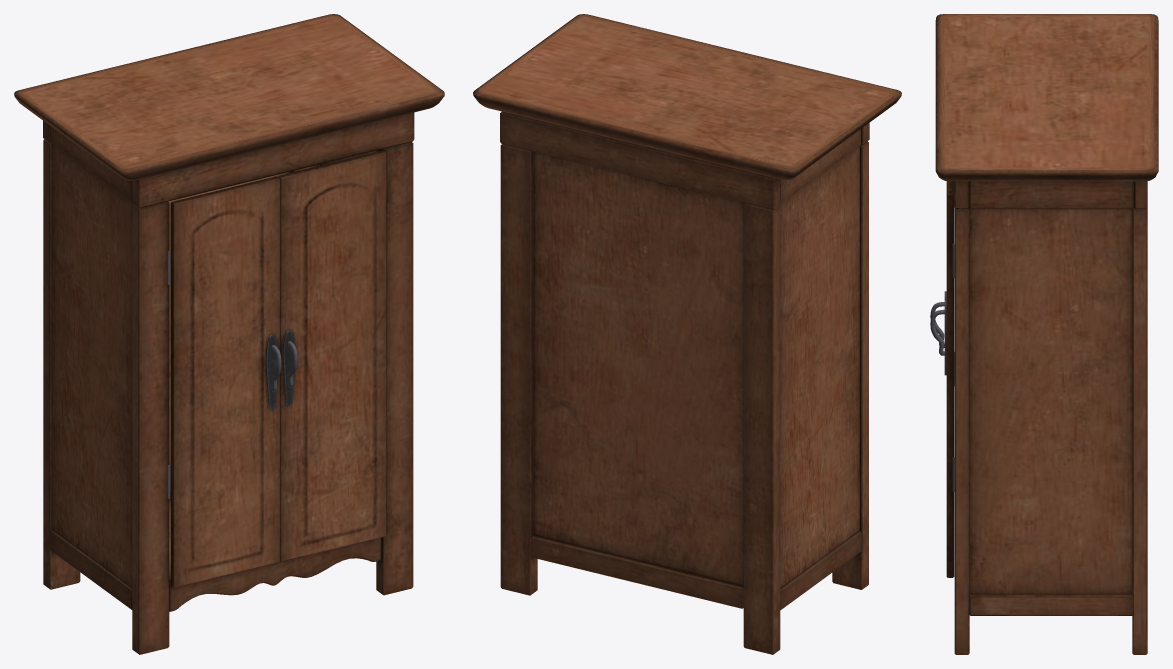
File: antique_wooden_wardrobe.gltf
The picture shows the model from 3 angles, left to right: view 1: azimuth 30°, elevation 25°; view 2: azimuth 150°, elevation 25°; view 3: azimuth 270°, elevation 25°; orthographic projection.
Parts seen in each view (by area): view 1: Cube.018, Cube.019, Cube.017, Cube.013, Cube, Cube.001, Cube.004, Cube.002, Cube.008, Cube.010, Cube.006, Cube.014 (+2 smaller); view 2: Cube.014, Cube.017, Cube.013, Cube.002, Cube.003, Cube.005, Cube.009, Cube, Cube.010, Cube.006; view 3: Cube.012, Cube.017, Cube.001, Cube.003, Cube.007, Cube.011, Cube.019, Cube.004, Cube.005.
Part boxes in pixels (left/top/right/bottom): Cube.018: left=170, top=176, right=279, bottom=587; Cube.019: left=278, top=150, right=386, bottom=561; Cube.017: left=14, top=14, right=444, bottom=180; Cube.013: left=51, top=143, right=132, bottom=587; Cube: left=132, top=201, right=169, bottom=654; Cube.001: left=376, top=142, right=413, bottom=595; Cube.004: left=132, top=112, right=414, bottom=208; Cube.002: left=43, top=139, right=80, bottom=589; Cube.008: left=169, top=538, right=381, bottom=611; Cube.010: left=50, top=530, right=132, bottom=609; Cube.006: left=51, top=126, right=132, bottom=201; Cube.014: left=168, top=171, right=290, bottom=496; Cube.014: left=533, top=151, right=744, bottom=586; Cube.017: left=473, top=14, right=901, bottom=180; Cube.013: left=779, top=146, right=860, bottom=588; Cube.002: left=743, top=203, right=780, bottom=654; Cube.003: left=500, top=144, right=537, bottom=595; Cube.005: left=500, top=111, right=779, bottom=210; Cube.009: left=531, top=535, right=743, bottom=608; Cube: left=832, top=141, right=868, bottom=589; Cube.010: left=780, top=531, right=861, bottom=610; Cube.006: left=780, top=129, right=860, bottom=203; Cube.012: left=968, top=207, right=1133, bottom=594; Cube.017: left=935, top=14, right=1158, bottom=181; Cube.001: left=954, top=208, right=969, bottom=654; Cube.003: left=1132, top=196, right=1147, bottom=654; Cube.007: left=969, top=181, right=1133, bottom=208; Cube.011: left=969, top=594, right=1132, bottom=615; Cube.019: left=946, top=181, right=954, bottom=577; Cube.004: left=954, top=181, right=969, bottom=208; Cube.005: left=1134, top=181, right=1147, bottom=209.
Size of the model in its own units: 1.35 by 1.97 by 0.8203.
1 material, 1 textured.
